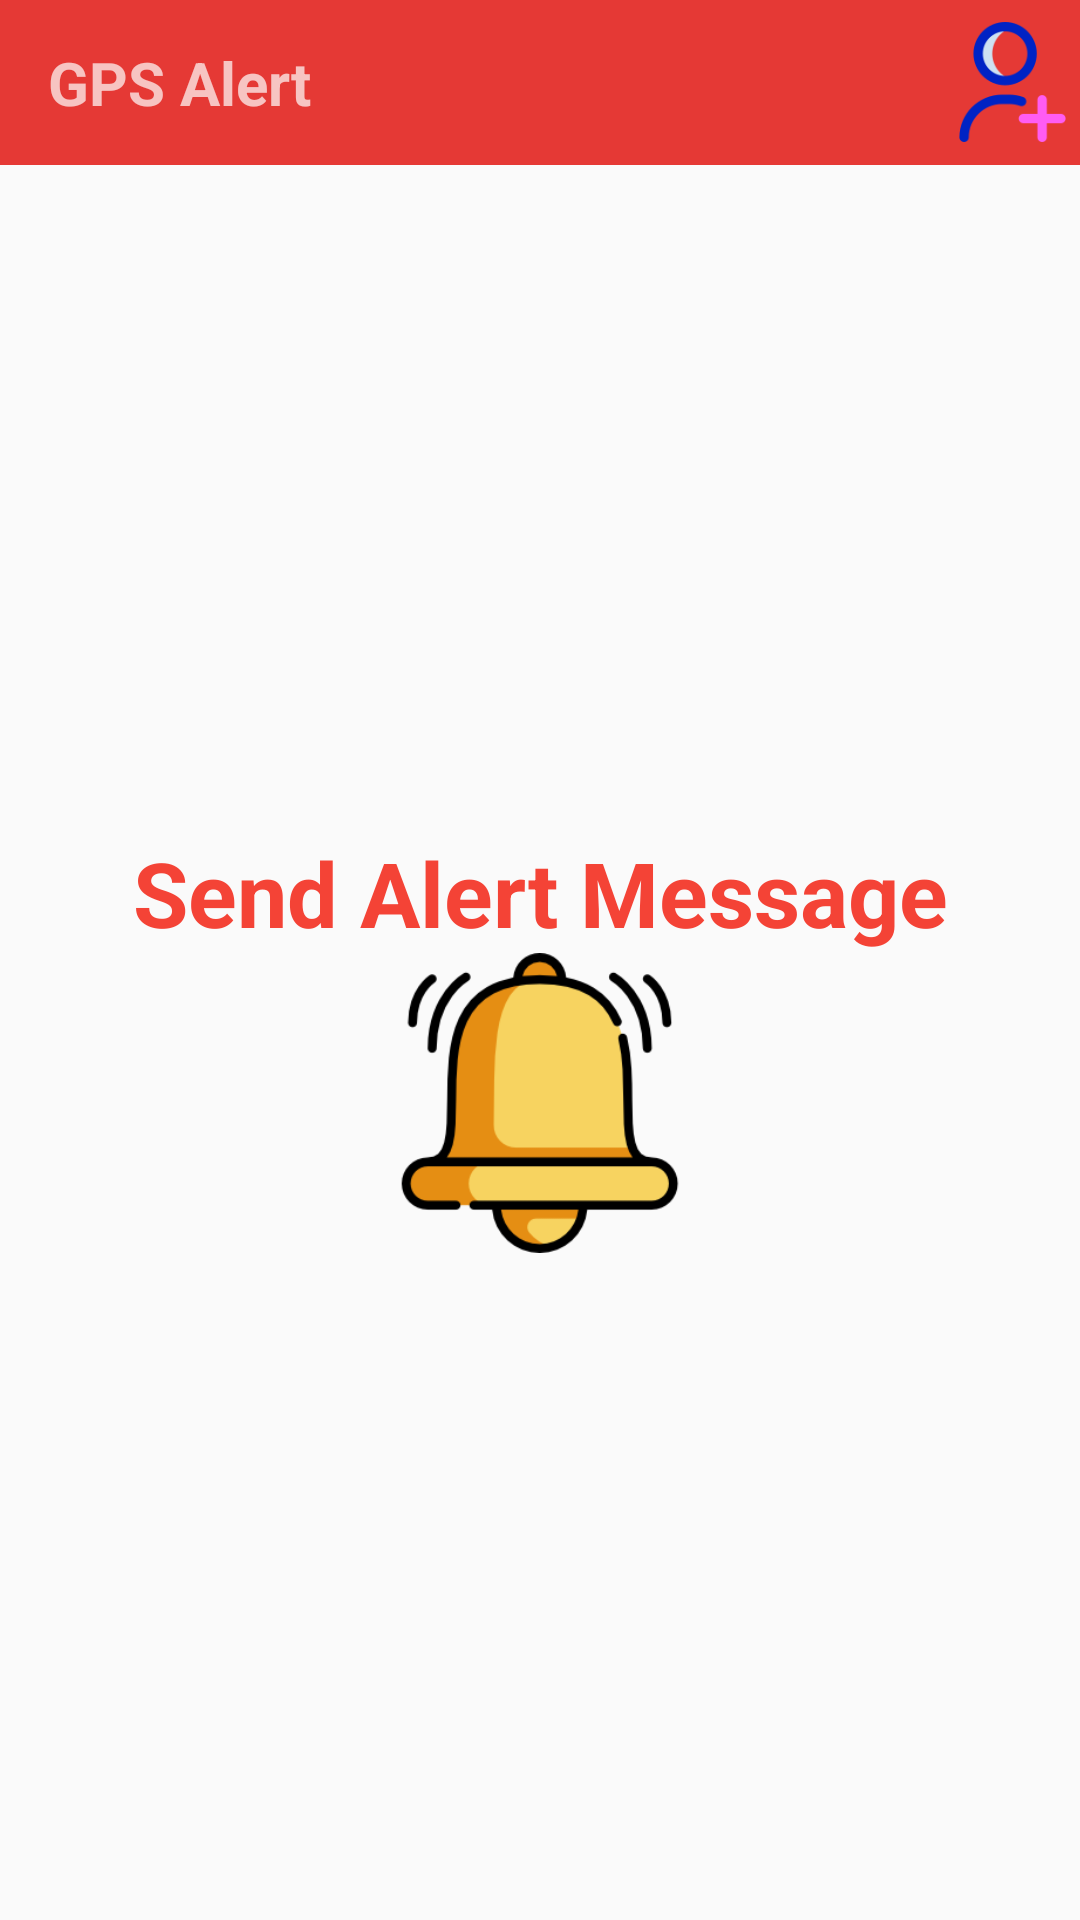

Where icons sit on this 1080w x 1920h app screen, as (x1, y1, x2, y2):
add: (959, 22, 1066, 142)
bell: (401, 953, 679, 1253)
